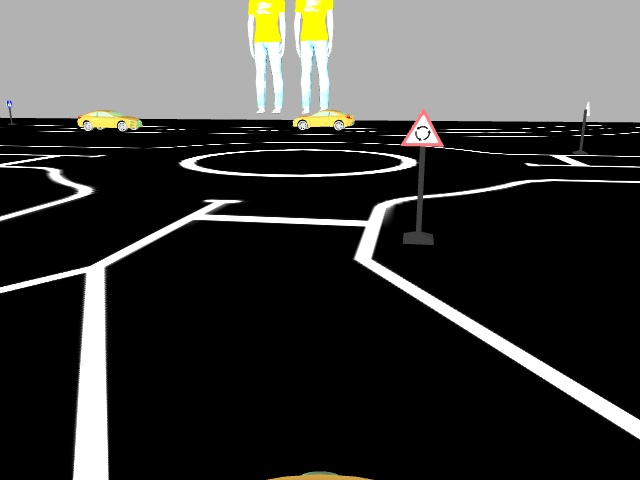Roundabout: (401, 106, 445, 147)
